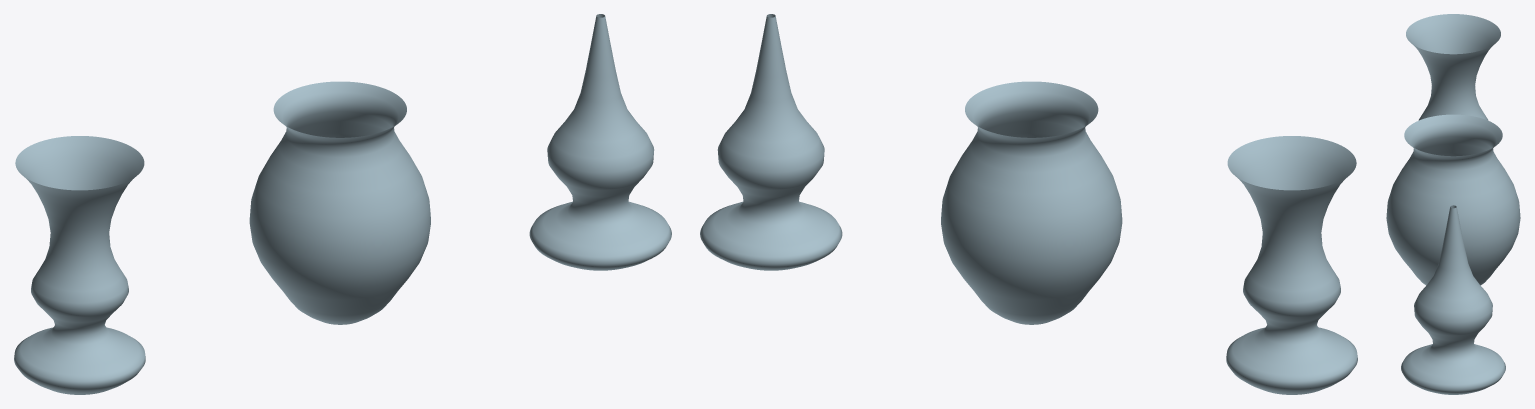
File: NW_SpinMultiProfile_Tooling.fbx
3 renders of one model, left to right at view 1: azimuth 30°, elevation 25°; view 2: azimuth 150°, elevation 25°; view 3: azimuth 270°, elevation 25°, orthographic. The views are drawn at different scales.
Visible parts, largest first — view 1: NW_Asset_Vase, NW_Asset_Baluster, NW_Asset_Finial; view 2: NW_Asset_Vase, NW_Asset_Baluster, NW_Asset_Finial; view 3: NW_Asset_Vase, NW_Asset_Finial, NW_Asset_Baluster.
Part boxes in pixels (x1,y1,x2,y2): NW_Asset_Vase: [249, 81, 430, 324]; NW_Asset_Baluster: [14, 136, 145, 394]; NW_Asset_Finial: [529, 14, 671, 270]; NW_Asset_Vase: [941, 81, 1122, 324]; NW_Asset_Baluster: [1226, 136, 1357, 394]; NW_Asset_Finial: [700, 14, 842, 270]; NW_Asset_Vase: [1386, 114, 1520, 285]; NW_Asset_Finial: [1401, 205, 1505, 394]; NW_Asset_Baluster: [1406, 14, 1500, 120].
Size of the model in its own units: 332 by 116 by 81.54.
